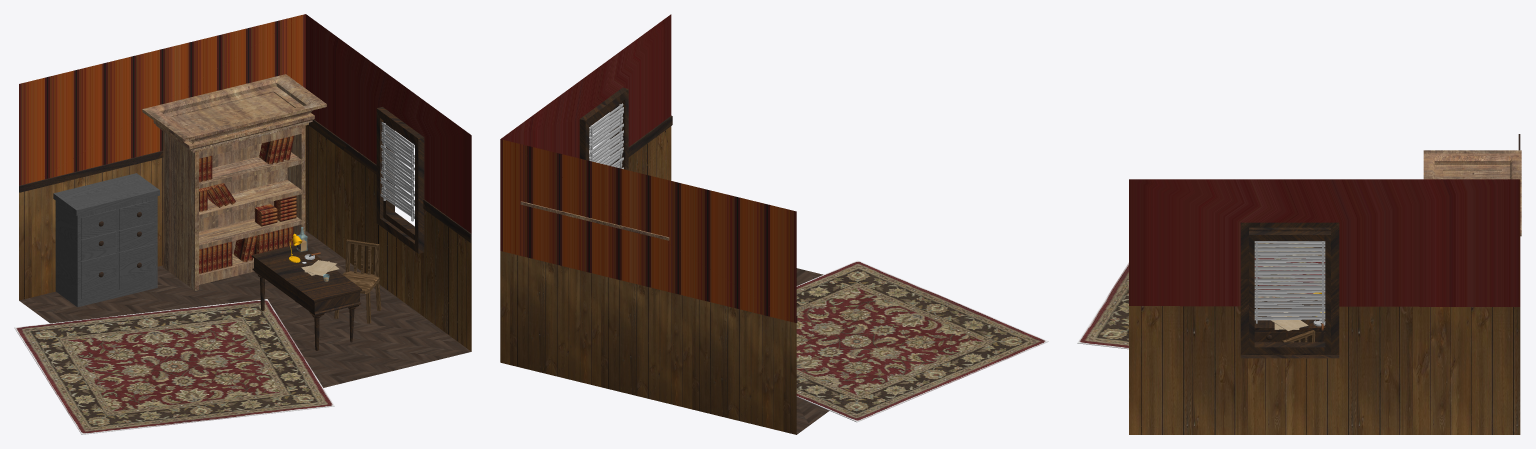
File: detectives_office_in_noir_style.glb
The picture shows the model from 3 angles, left to right: view 1: azimuth 30°, elevation 25°; view 2: azimuth 150°, elevation 25°; view 3: azimuth 270°, elevation 25°; orthographic projection. The views are drawn at different scales.
Parts seen in each view (by area): view 1: wall_4, carpet_7, bookshelf_1, floor_9, commode_2, table_6, window_14, jalousie_5, chair_25, books_26, books.001_27, books.002_28 (+1 smaller); view 2: wall_4, carpet_7, jalousie_5, window_14, floor_9, bookshelf_1; view 3: wall_4, window_14, jalousie_5, carpet_7, bookshelf_1, table_6.
Part boxes in pixels (bbox=[...]): wall_4: bbox=[19, 14, 471, 351]; carpet_7: bbox=[14, 299, 334, 434]; bookshelf_1: bbox=[142, 74, 326, 290]; floor_9: bbox=[19, 230, 471, 387]; commode_2: bbox=[53, 173, 159, 307]; table_6: bbox=[251, 245, 361, 350]; window_14: bbox=[376, 107, 424, 253]; jalousie_5: bbox=[380, 122, 414, 221]; chair_25: bbox=[334, 239, 381, 323]; books_26: bbox=[199, 241, 232, 273]; books.001_27: bbox=[254, 226, 293, 254]; books.002_28: bbox=[274, 195, 296, 221]; wall_4: bbox=[500, 14, 797, 434]; carpet_7: bbox=[796, 260, 1048, 422]; jalousie_5: bbox=[589, 103, 623, 169]; window_14: bbox=[579, 87, 628, 170]; floor_9: bbox=[796, 268, 829, 434]; bookshelf_1: bbox=[520, 201, 669, 240]; wall_4: bbox=[1129, 134, 1520, 434]; window_14: bbox=[1240, 222, 1339, 358]; jalousie_5: bbox=[1254, 241, 1325, 323]; carpet_7: bbox=[1077, 243, 1325, 349]; bookshelf_1: bbox=[1423, 150, 1521, 236]; table_6: bbox=[1254, 300, 1325, 342].
Bounding box in the file's own units: 13.93 × 7.5 × 11.81.
Materials: 19 (13 with a texture image).
